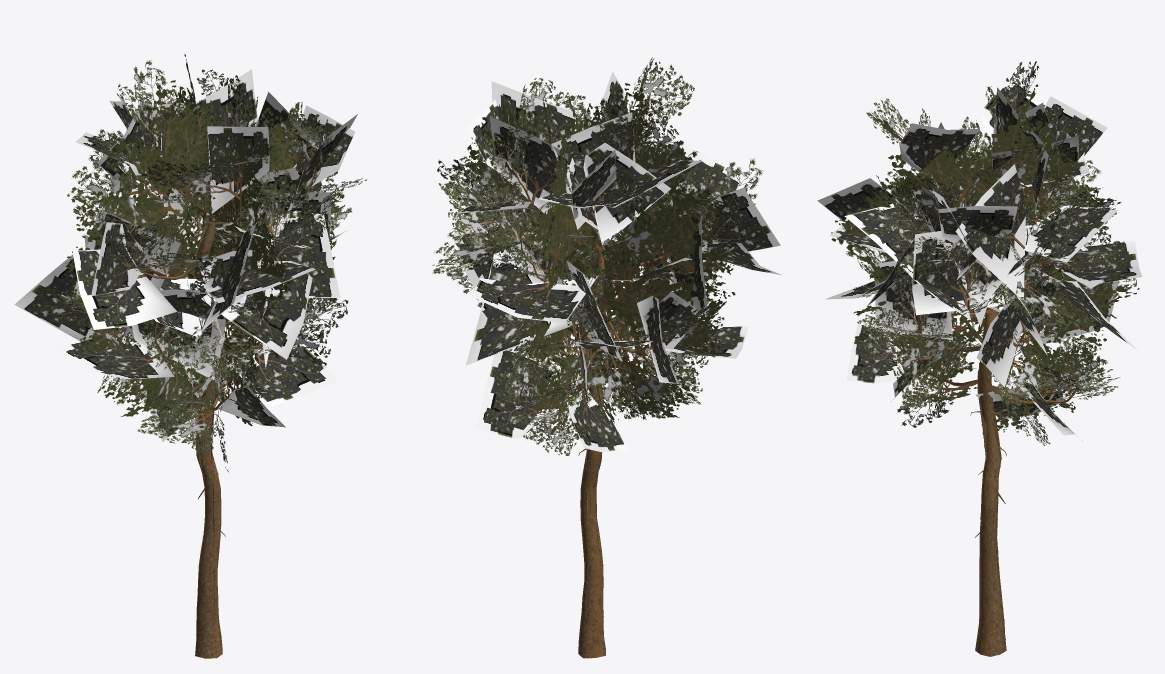
Rendered from Pine3.fbx.
3 views of the same model, side by side, from view 1: azimuth 30°, elevation 25°; view 2: azimuth 150°, elevation 25°; view 3: azimuth 270°, elevation 25° (orthographic). The views are drawn at different scales.
Visible parts, largest first — view 1: LOD0, Billboard; view 2: LOD0, Billboard; view 3: LOD0, Billboard.
Part boxes in pixels (box(x1,y1,x2,y2)): LOD0: box(14, 60, 367, 658); Billboard: box(64, 54, 345, 640); LOD0: box(432, 57, 781, 658); Billboard: box(456, 58, 735, 647); LOD0: box(817, 61, 1142, 656); Billboard: box(831, 84, 1139, 642).
Size of what is drawn, in the model's own units: 630 by 1161 by 601.
